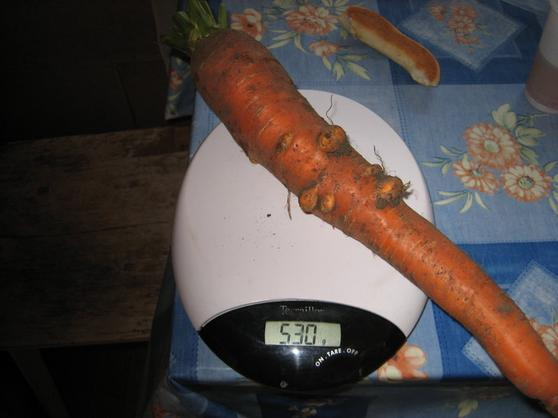carrot: (177, 23, 556, 412)
